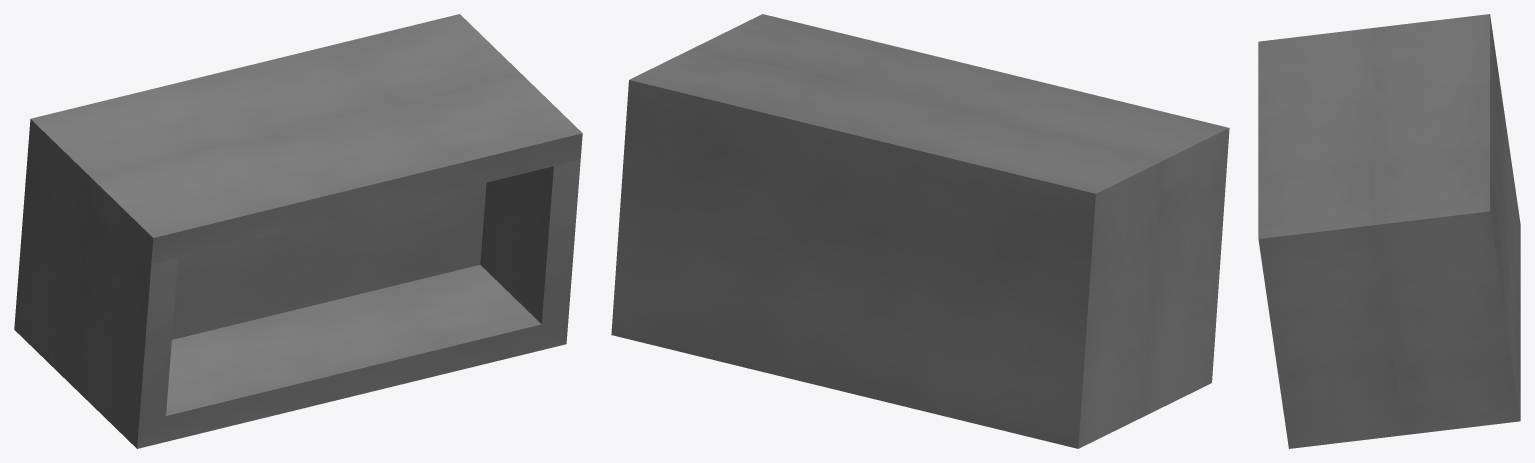
The model's file is dc_metro_arch_a4.obj.
3 views of the same model, side by side, from view 1: azimuth 30°, elevation 25°; view 2: azimuth 150°, elevation 25°; view 3: azimuth 270°, elevation 25° (orthographic). The views are drawn at different scales.
Visible parts, largest first — view 1: part4; view 2: part4; view 3: part4.
Boxes of the visible parts, x1,y1,x2,y2 form: part4: (14,14,582,448); part4: (611,14,1229,448); part4: (1258,14,1520,448).
Bounding box in the file's own units: 2 × 1.12 × 1.12.
Materials: 1 (1 with a texture image).
